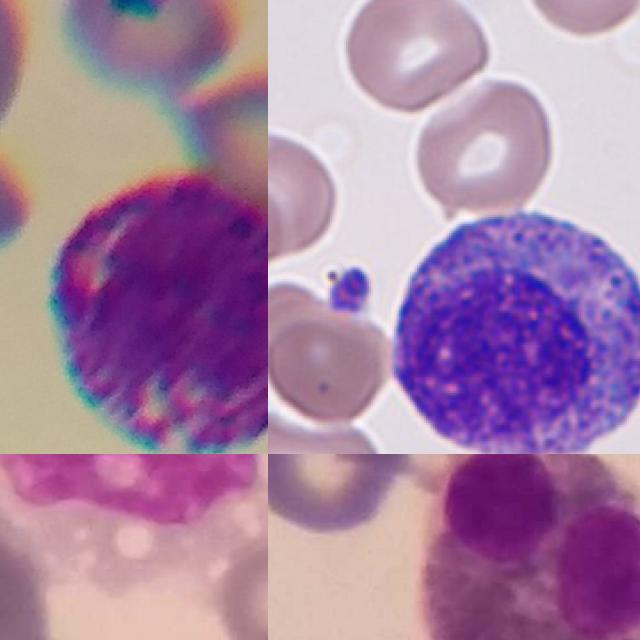Basophil: (53, 174, 268, 454)
Eosinophil: (416, 454, 640, 640)
Lymphocyte: (377, 195, 640, 454)
Monocyte: (0, 454, 268, 581)
Platelets: (325, 262, 378, 319)
RBC: (408, 73, 563, 215), (337, 0, 499, 115), (268, 311, 395, 425), (268, 124, 342, 261), (268, 404, 387, 454), (516, 0, 640, 41), (490, 425, 611, 454)
